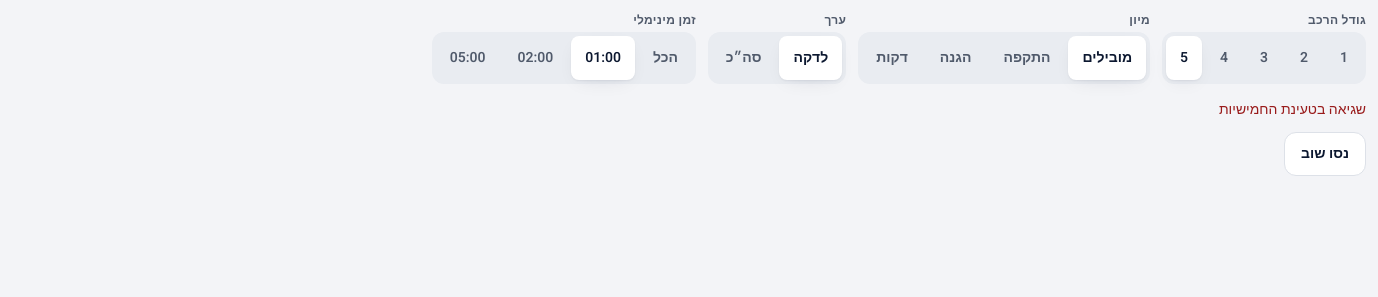
Scenario: LineupStats › error shows retry that refetches
Expected: the message "שגיאה בטעינת החמישיות" is shown, [1219,99,1366,120]
Step 1. Click the button "נסו שוב" → [1325, 154], box [1284,132,1366,176]
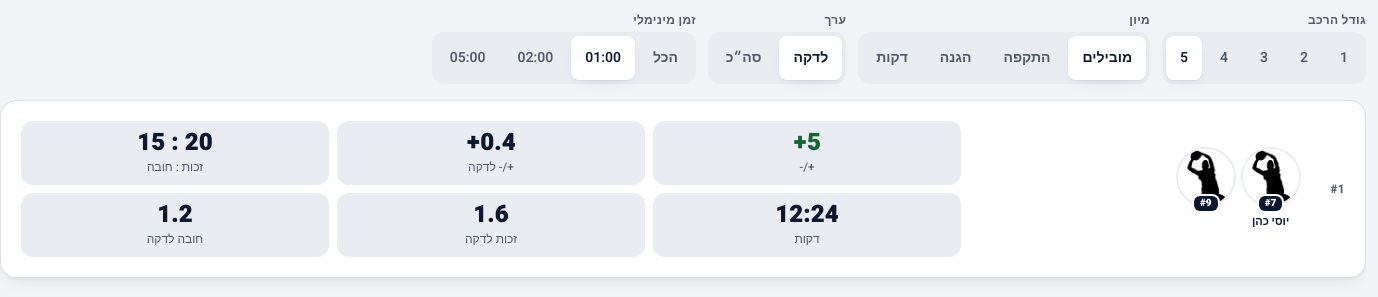
Result: the text "יוסי כהן" is shown at [1252,213,1289,230]
